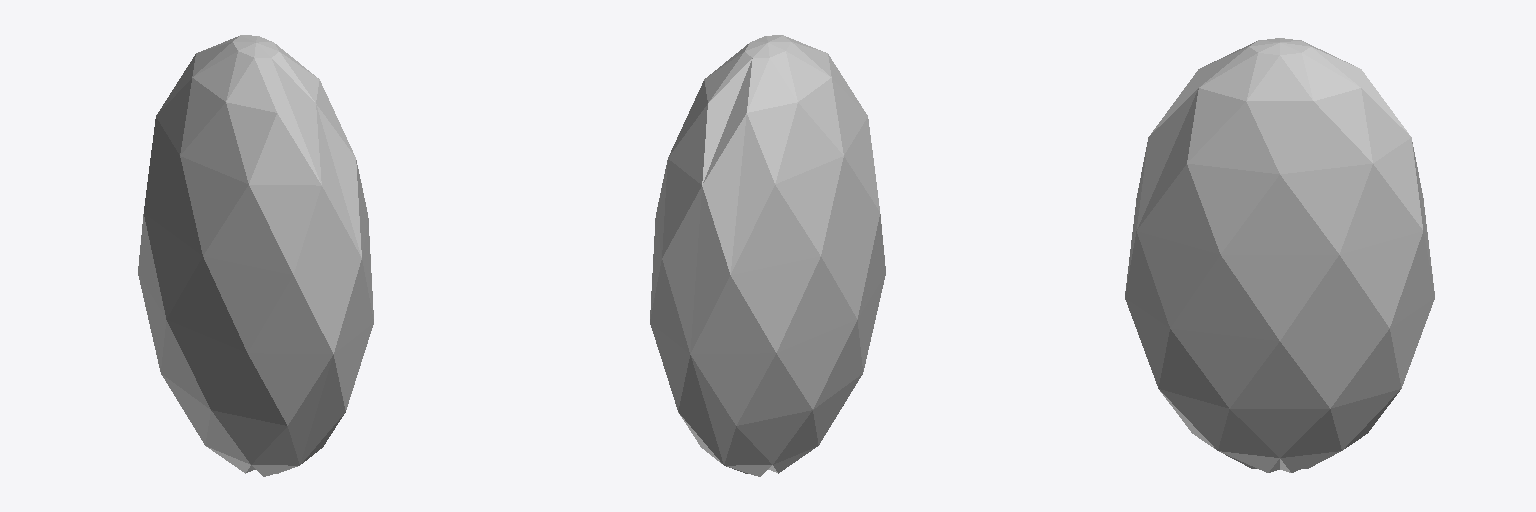
File: bee_mesh.obj
3 views of the same model, side by side, from view 1: azimuth 30°, elevation 25°; view 2: azimuth 150°, elevation 25°; view 3: azimuth 270°, elevation 25° (orthographic).
Parts seen in each view (by area): view 1: bee_mesh_Sphere; view 2: bee_mesh_Sphere; view 3: bee_mesh_Sphere.
Part boxes in pixels (left/top/right/bottom): bee_mesh_Sphere: left=138, top=35, right=373, bottom=476; bee_mesh_Sphere: left=650, top=35, right=885, bottom=476; bee_mesh_Sphere: left=1125, top=38, right=1434, bottom=472.
Size of the model in its own units: 0.8777 by 2 by 1.32.